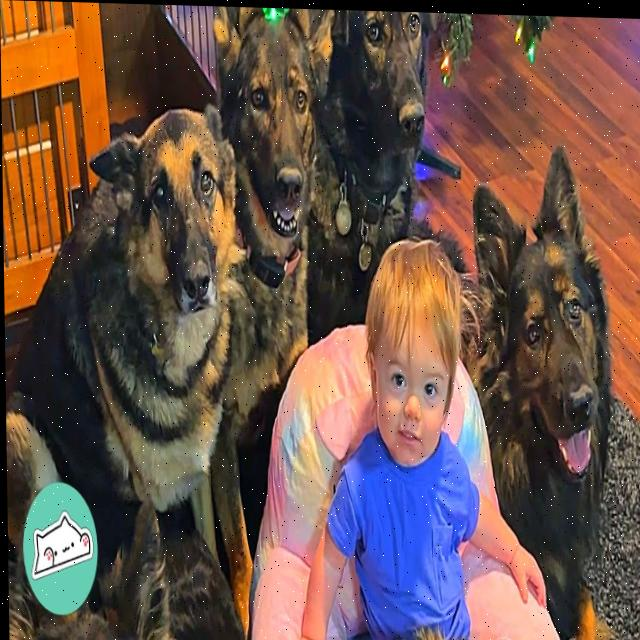GERMAN_SHEPHERD: (19, 86, 248, 534), (466, 132, 616, 640), (305, 7, 435, 350), (207, 5, 311, 417)
